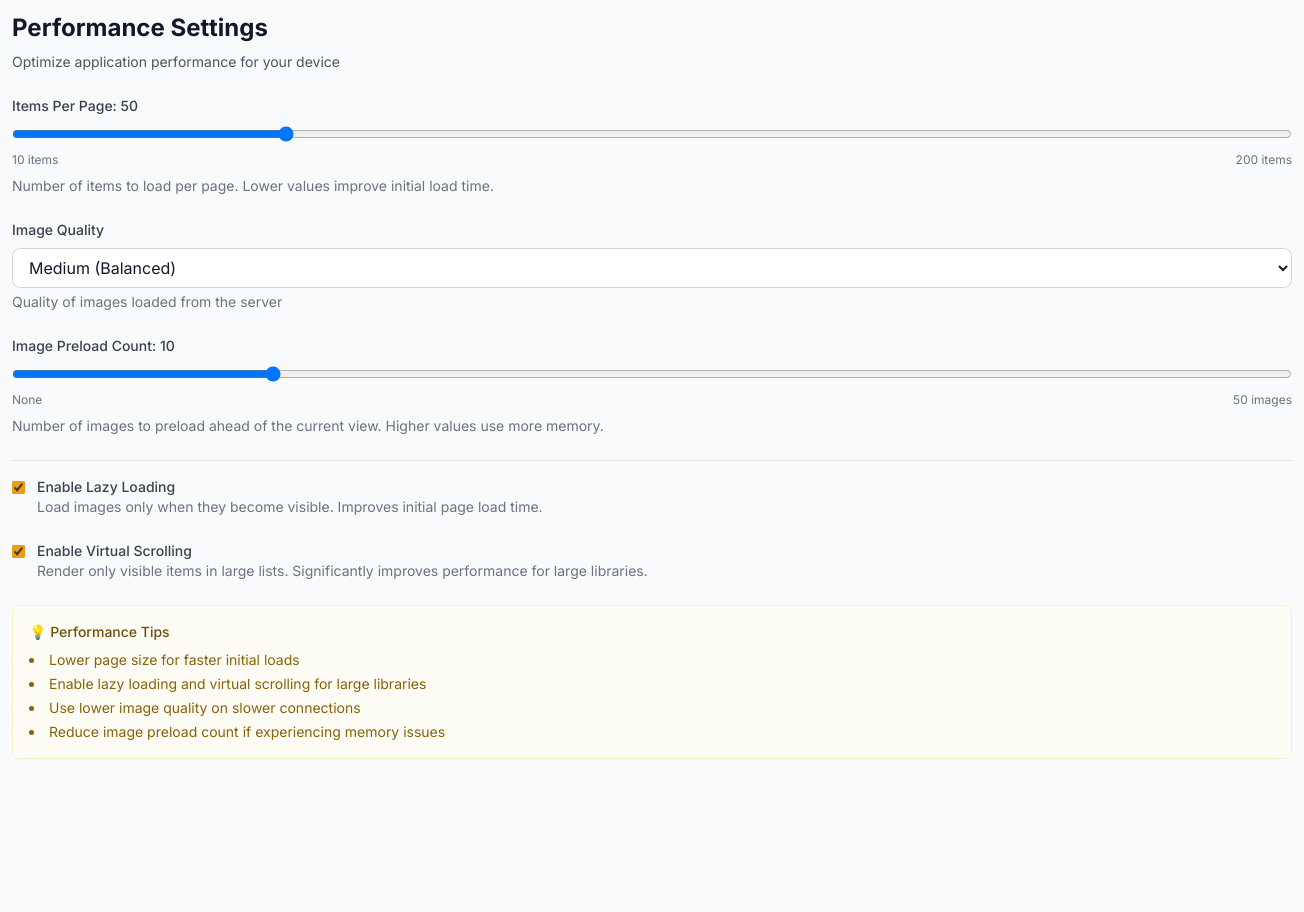
Test: PerformanceSettings › should toggle lazy loading
What coordinates should you click on to do the following:
click the checkbox labelled "Enable Lazy Loading"
I would click on:
 (18, 488)
Its box is [12,481,25,494].
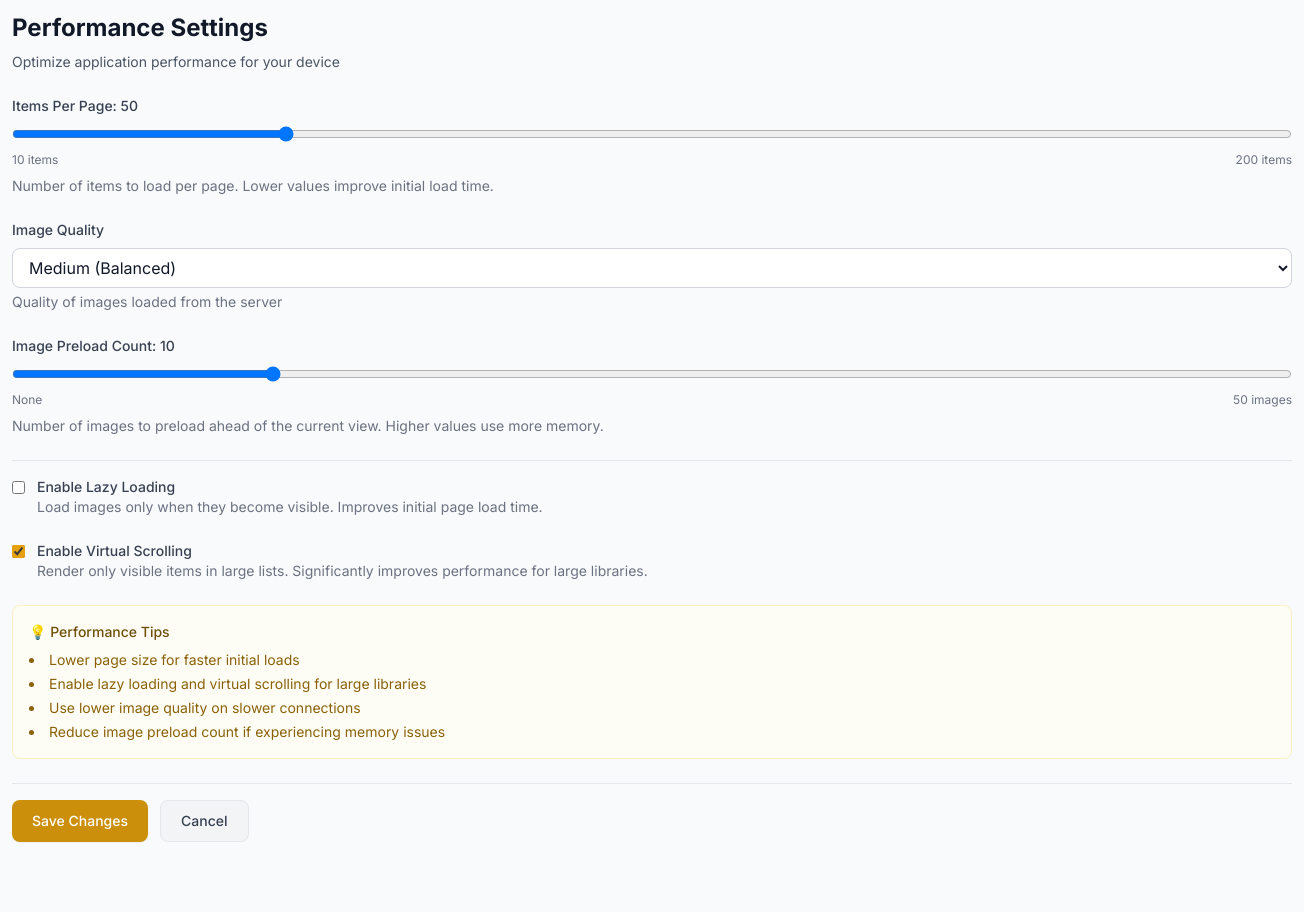
Expected: the checkbox labelled "Enable Lazy Loading" is not checked, [12,481,25,494]
Expected: the text "Save Changes" is shown, [32,811,128,831]
